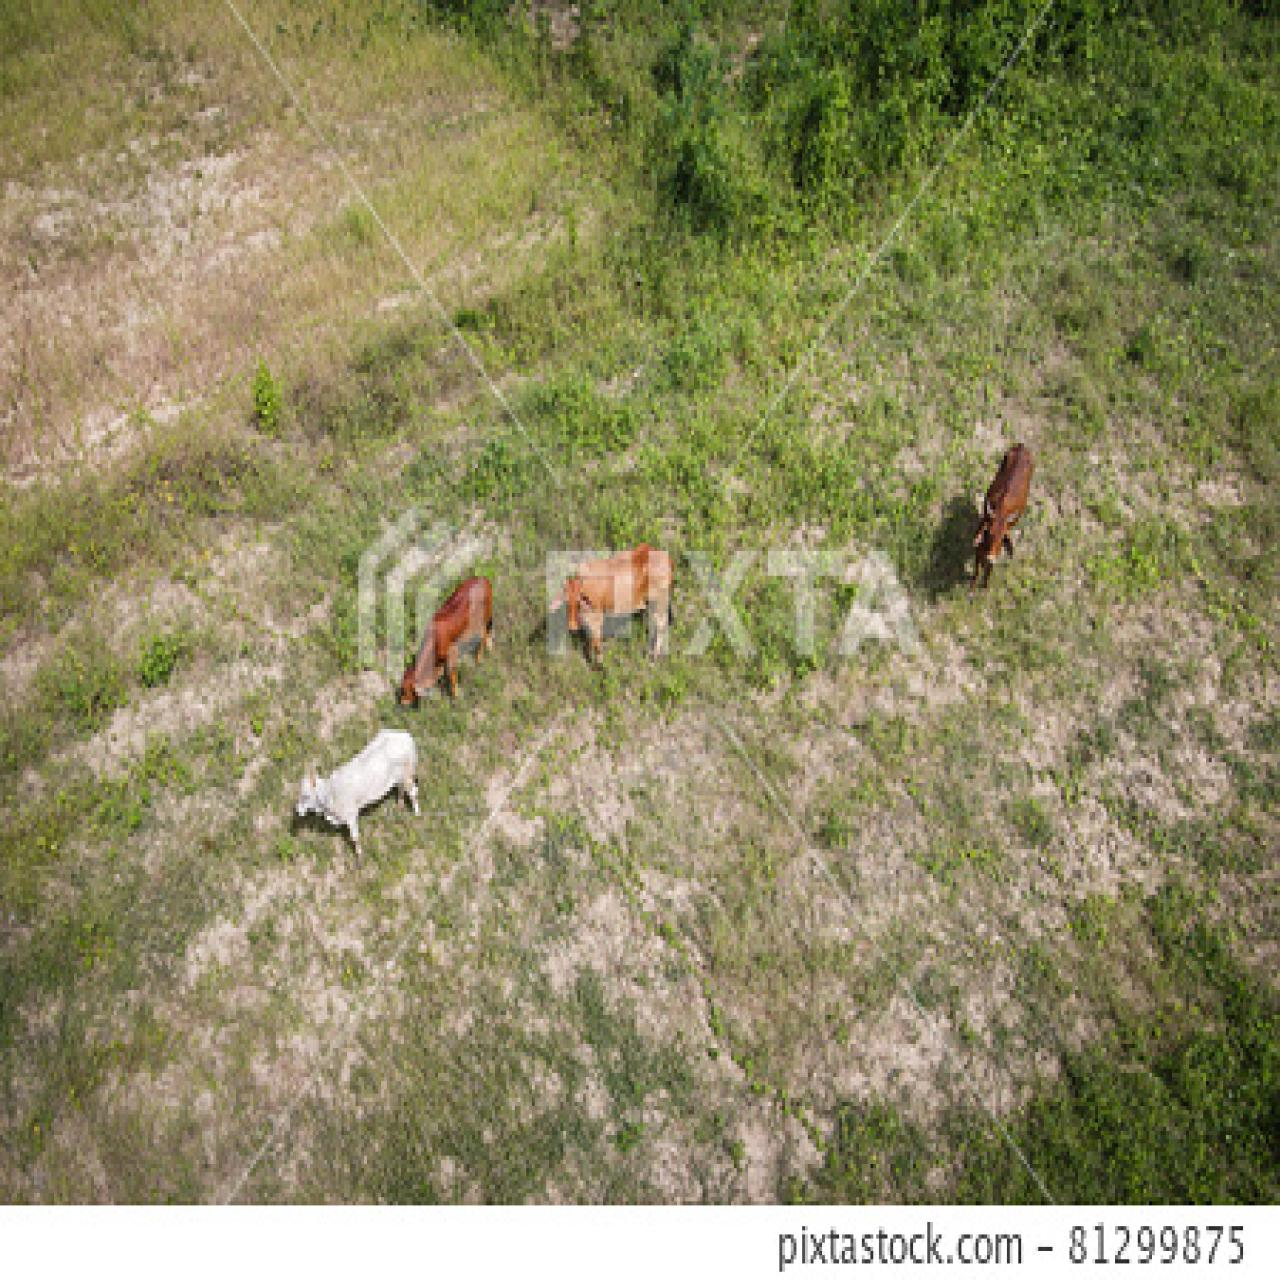cow: (539, 535, 689, 683), (287, 722, 428, 857), (399, 563, 503, 716), (962, 430, 1041, 600)
